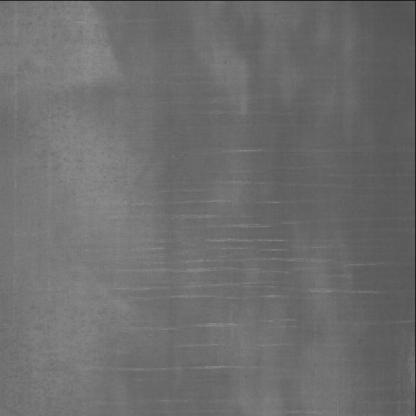waist_folding: (64, 150, 372, 382)
